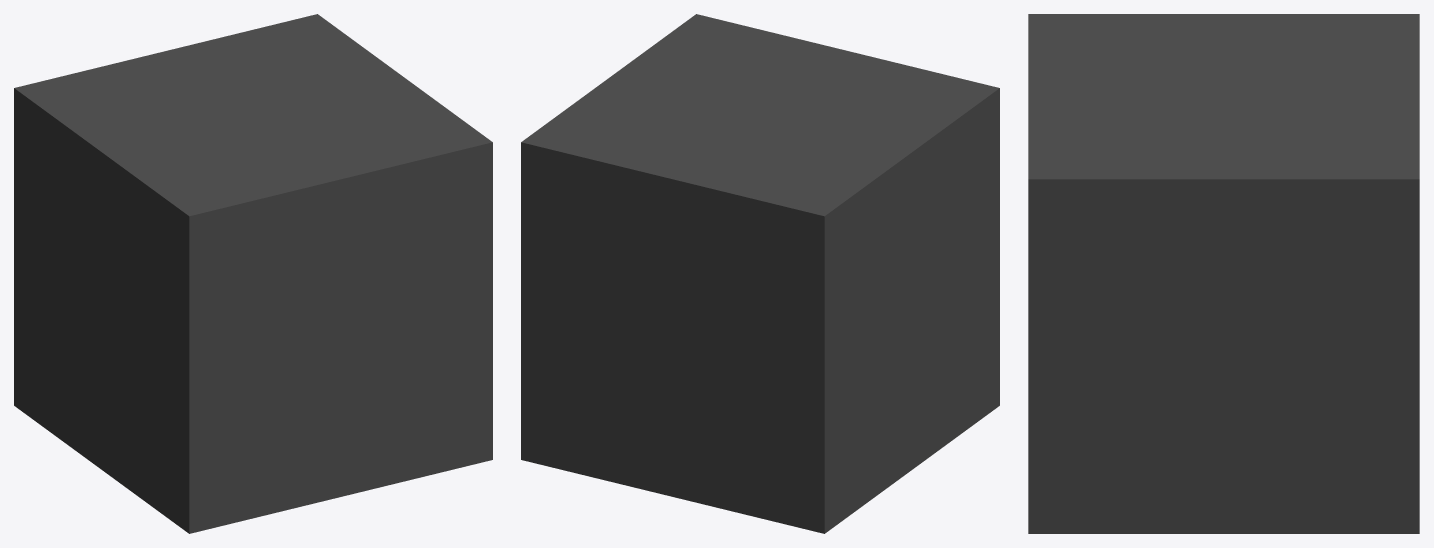
File: grayCube.obj
3 renders of one model, left to right at view 1: azimuth 30°, elevation 25°; view 2: azimuth 150°, elevation 25°; view 3: azimuth 270°, elevation 25°, orthographic. The views are drawn at different scales.
Size of the model in its own units: 1 by 1 by 1.
1 material, 1 textured.
